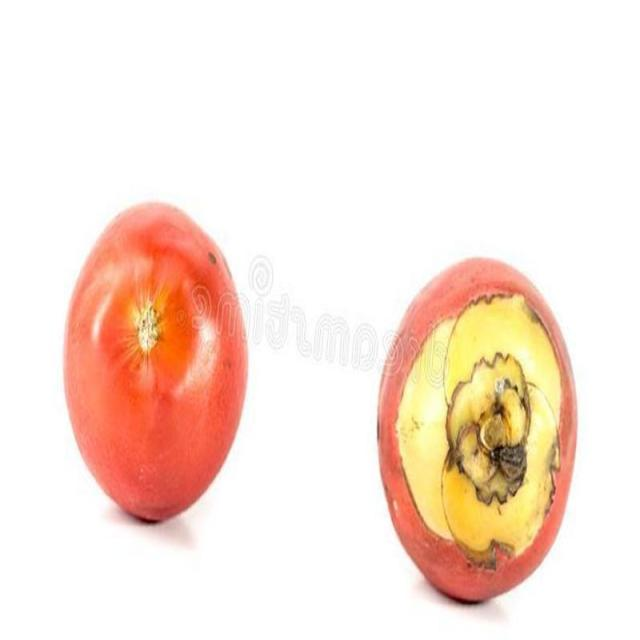good: (375, 257, 579, 606), (61, 202, 252, 527)
